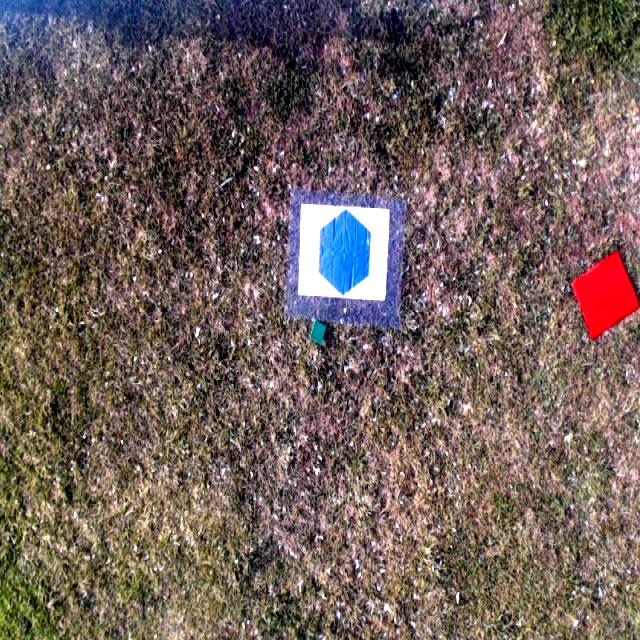blue_hexagon: (319, 211, 370, 294)
red_square: (572, 254, 638, 336)
